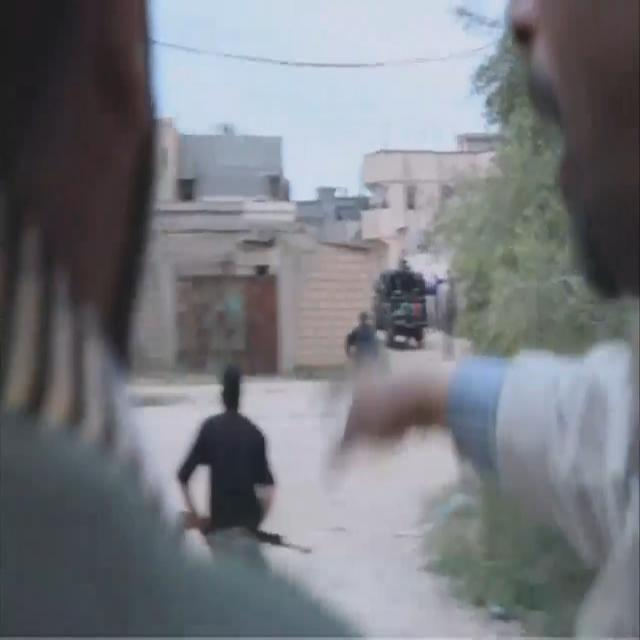long weapon: (175, 492, 313, 565)
